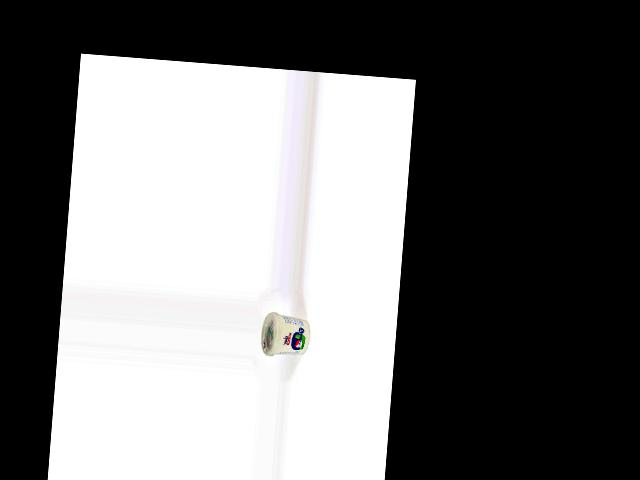cotage: (260, 311, 313, 361)
